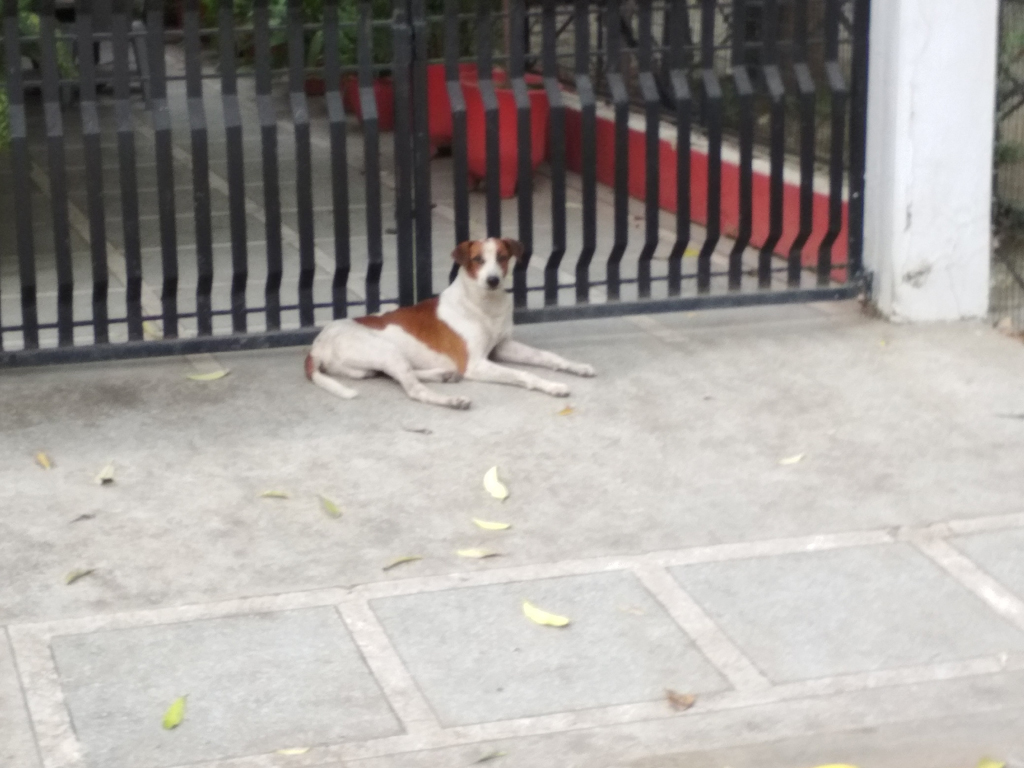dog: (305, 236, 604, 415)
